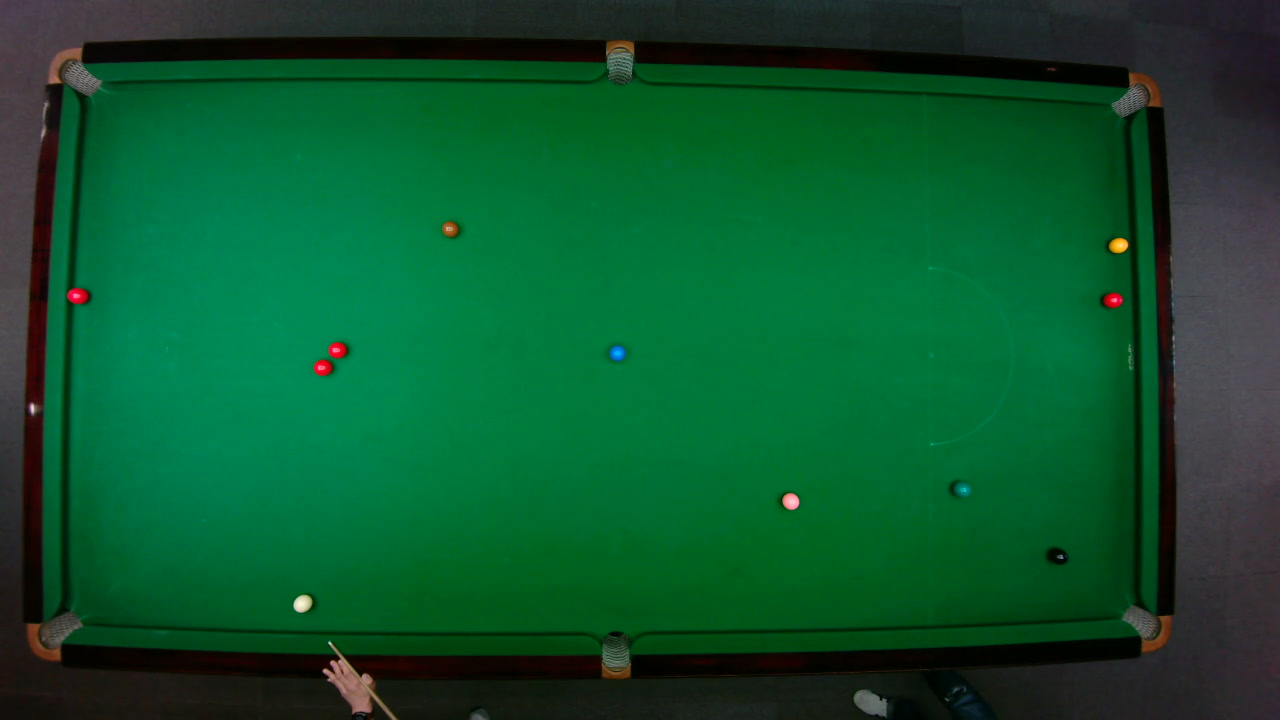bag: (24, 609, 83, 661), (45, 46, 102, 96), (1119, 602, 1171, 652), (1108, 71, 1162, 118), (600, 629, 629, 680), (605, 38, 633, 85)
black: (1047, 546, 1069, 565)
blue: (608, 343, 626, 361)
brown: (440, 220, 459, 237)
cue: (324, 639, 398, 720)
green: (951, 480, 972, 497)
pink: (780, 491, 800, 510)
red: (65, 286, 89, 304), (1101, 290, 1123, 308), (311, 358, 333, 376), (326, 340, 347, 358)
white: (291, 592, 313, 613)
yellow: (1107, 236, 1129, 253)
zone: (926, 265, 1013, 445)
